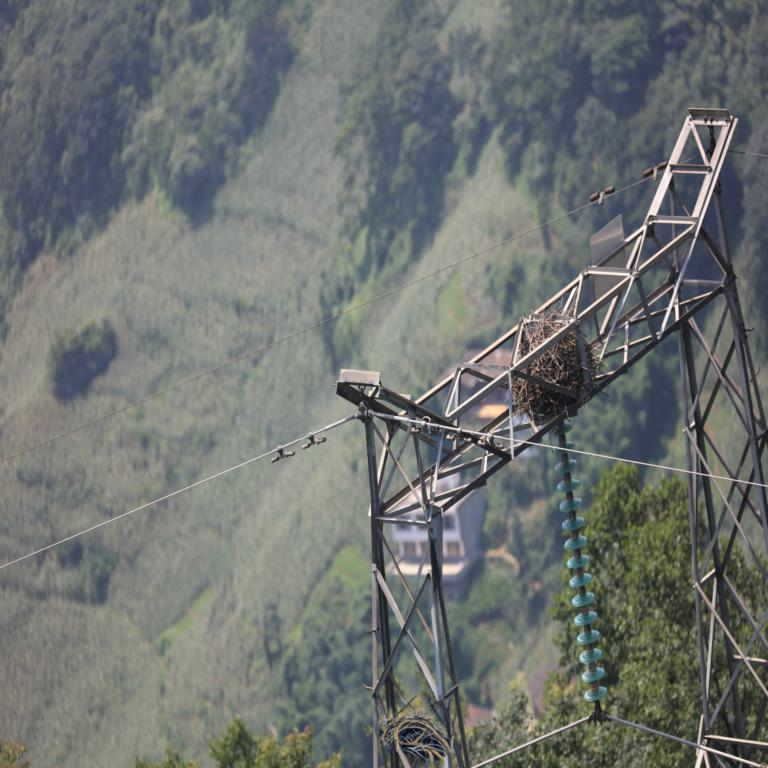nest: (510, 314, 599, 424), (381, 714, 450, 760)
